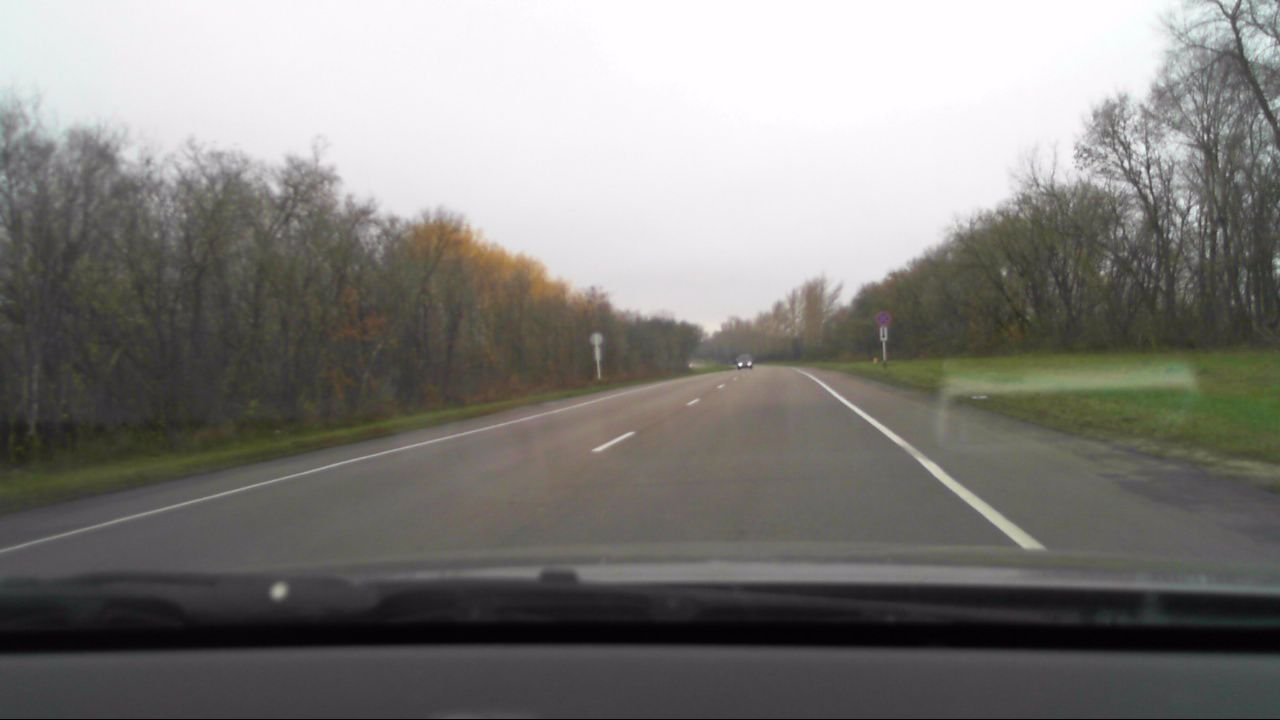No Parking: (873, 310, 892, 327)
